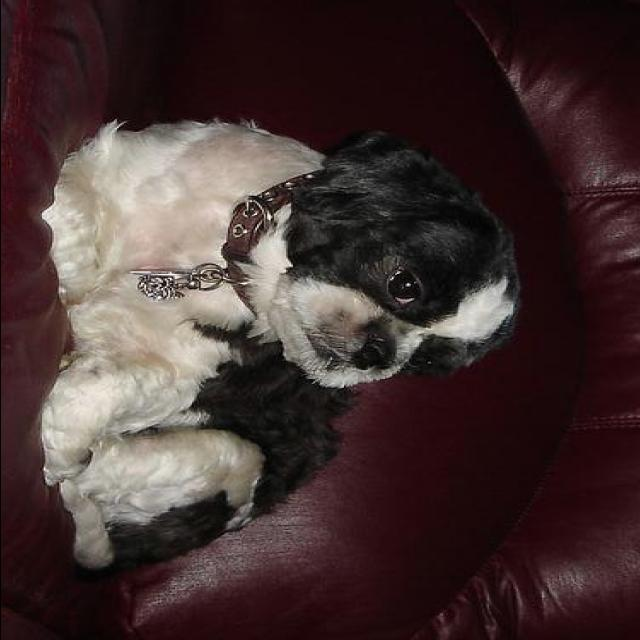shih_tzu: (38, 118, 528, 576)
